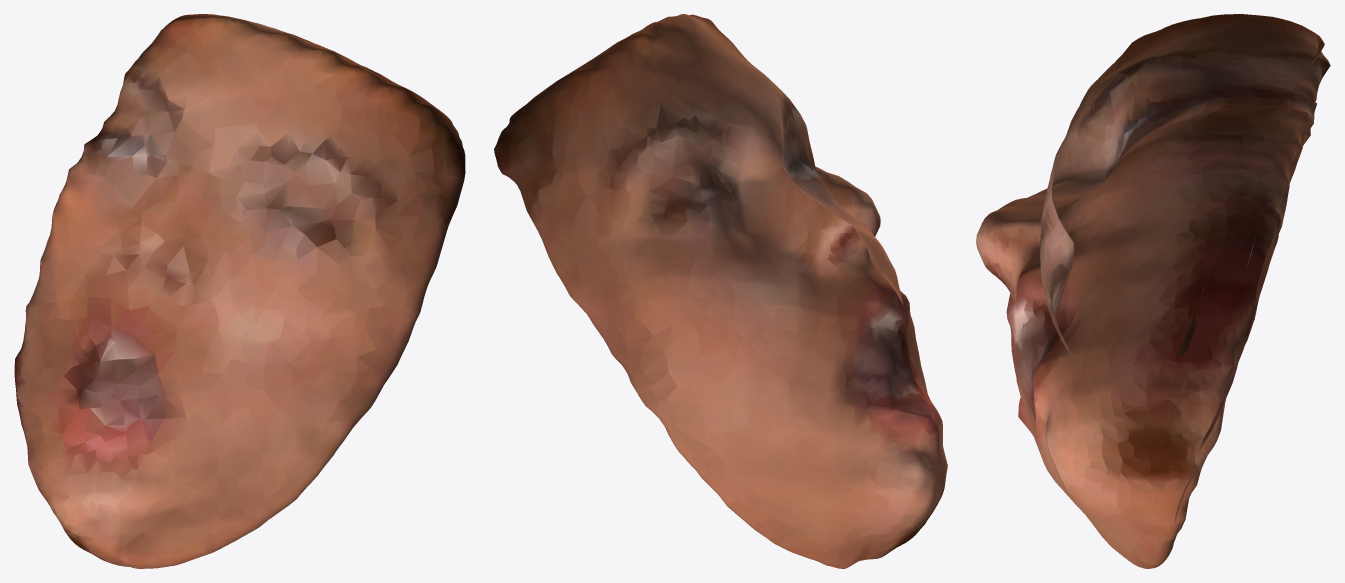
The model's file is eye-roll26.glb.
3 renders of one model, left to right at view 1: azimuth 30°, elevation 25°; view 2: azimuth 150°, elevation 25°; view 3: azimuth 270°, elevation 25°, orthographic. The views are drawn at different scales.
Visible parts, largest first — view 1: Node; view 2: Node; view 3: Node.
Part boxes in pixels (x1,y1,x2,y2): Node: [14, 14, 465, 568]; Node: [494, 14, 947, 568]; Node: [976, 14, 1330, 568].
Size of the model in its own units: 92.26 by 105 by 57.93.
Materials: 1 (1 with a texture image).
